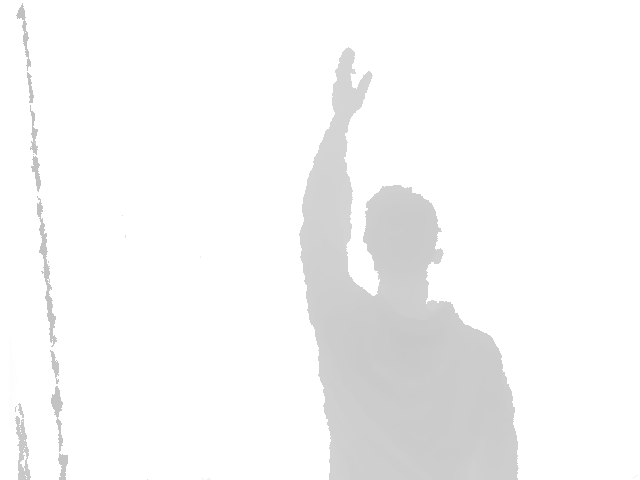hand: (331, 47, 373, 117)
head: (362, 184, 443, 288)
person: (299, 47, 520, 480)
